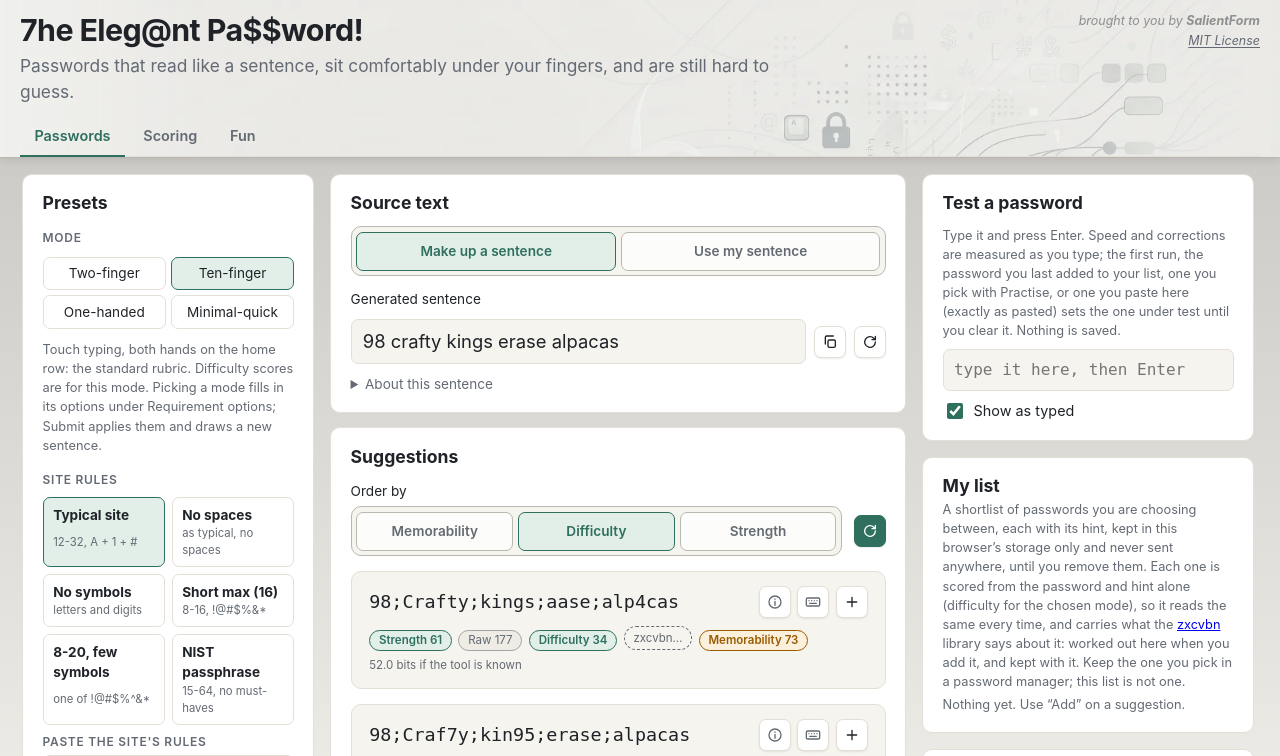
Scenario: App › shows suggestions, lets one be added to the list, and keeps both across a reload
This screenshot has width=1280, height=756.
Expected: the element named "Suggestion 1" is shown, [351, 571, 886, 689]
Click the 1st button named "Add" at (852, 602), box [836, 586, 868, 618]
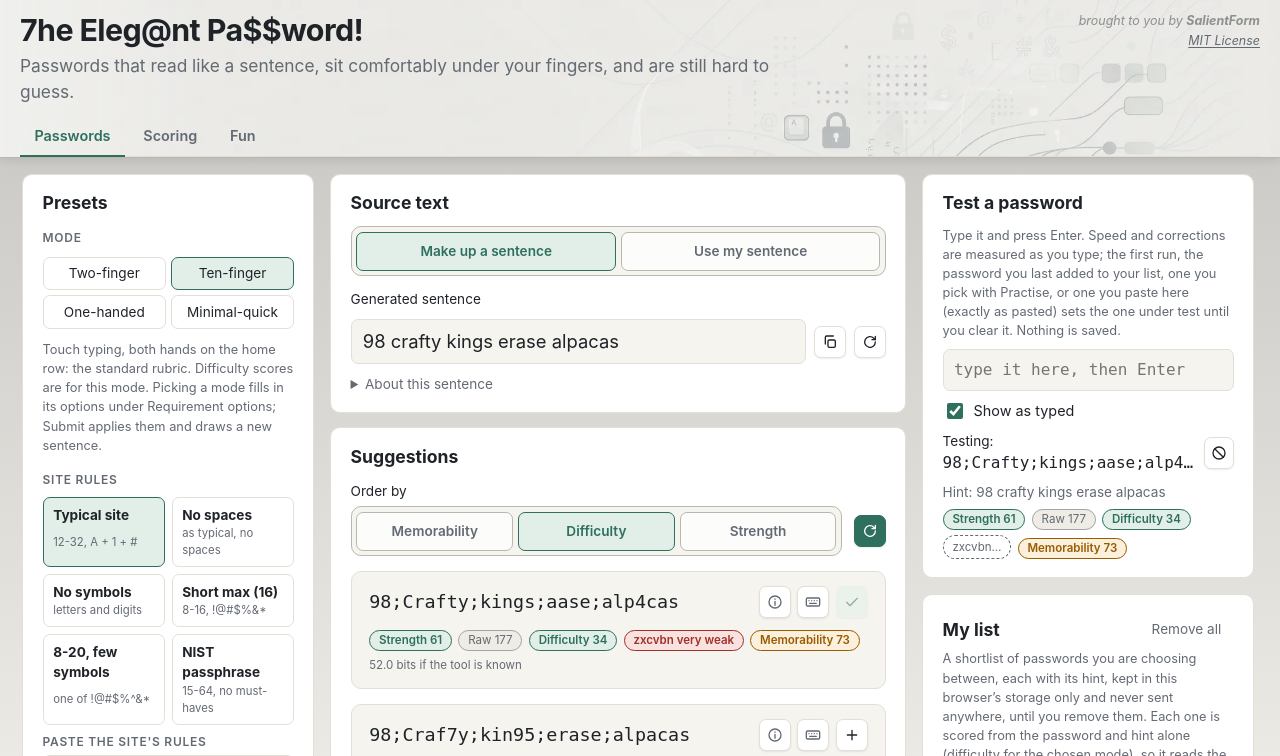
Now the button named "Added" is shown, box [836, 586, 868, 618]
